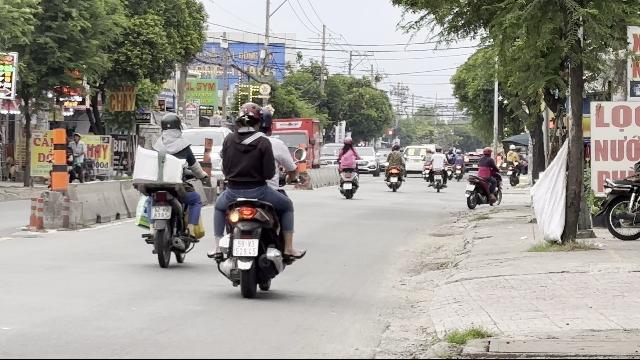helmet: (234, 102, 262, 134), (158, 112, 182, 136), (258, 103, 274, 134)
licenseplate: (234, 238, 258, 256), (151, 206, 171, 219)
motorcyclist: (207, 98, 303, 298), (130, 110, 206, 266)
